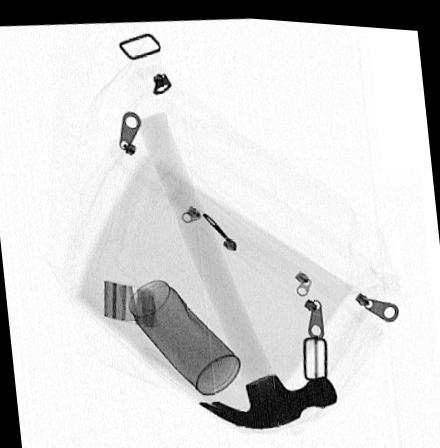Hammer: (134, 108, 338, 425)
